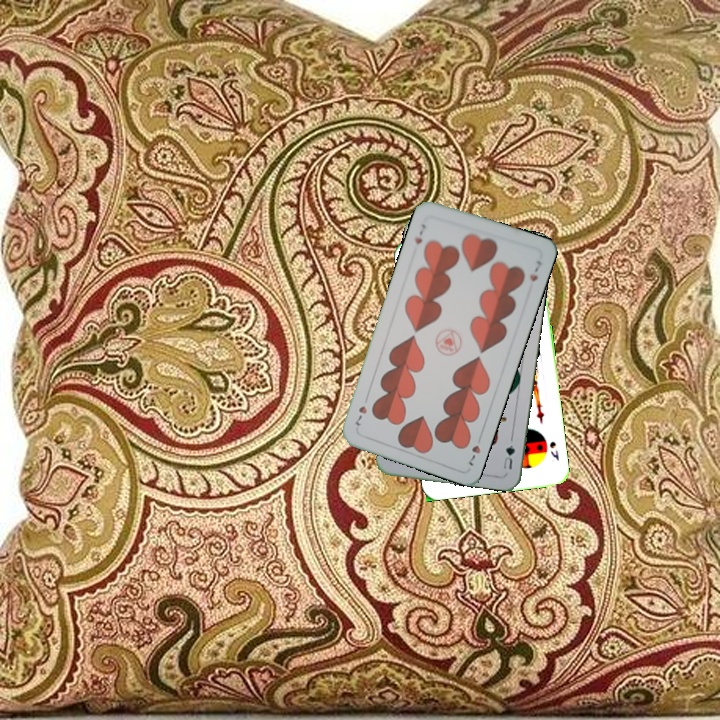GU: (499, 441, 517, 472)
H7: (464, 431, 485, 469), (411, 220, 428, 247)
SK: (546, 437, 561, 463)
